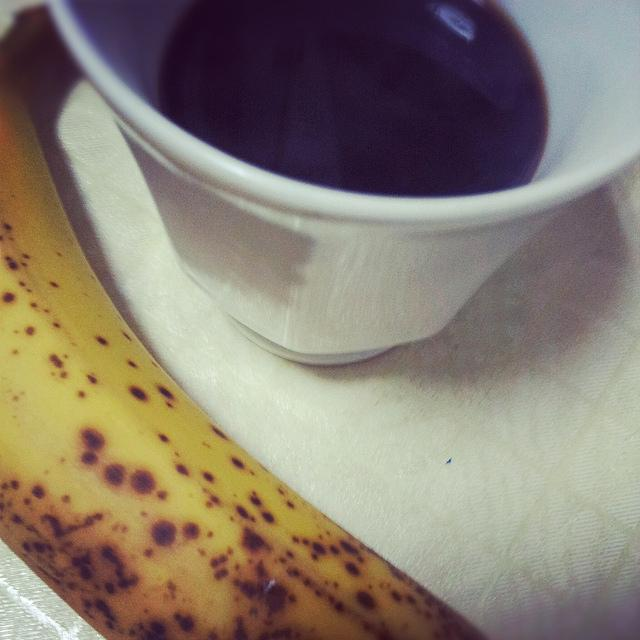banana: (0, 83, 493, 640)
